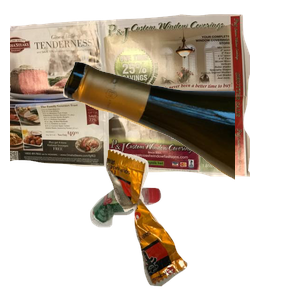glass: (60, 59, 300, 231)
paper: (10, 11, 250, 180)
plastic: (88, 182, 242, 300)
trash: (103, 147, 300, 300)
